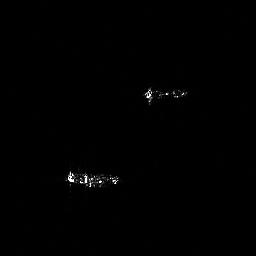ship: (64, 169, 121, 190), (143, 85, 188, 105)
